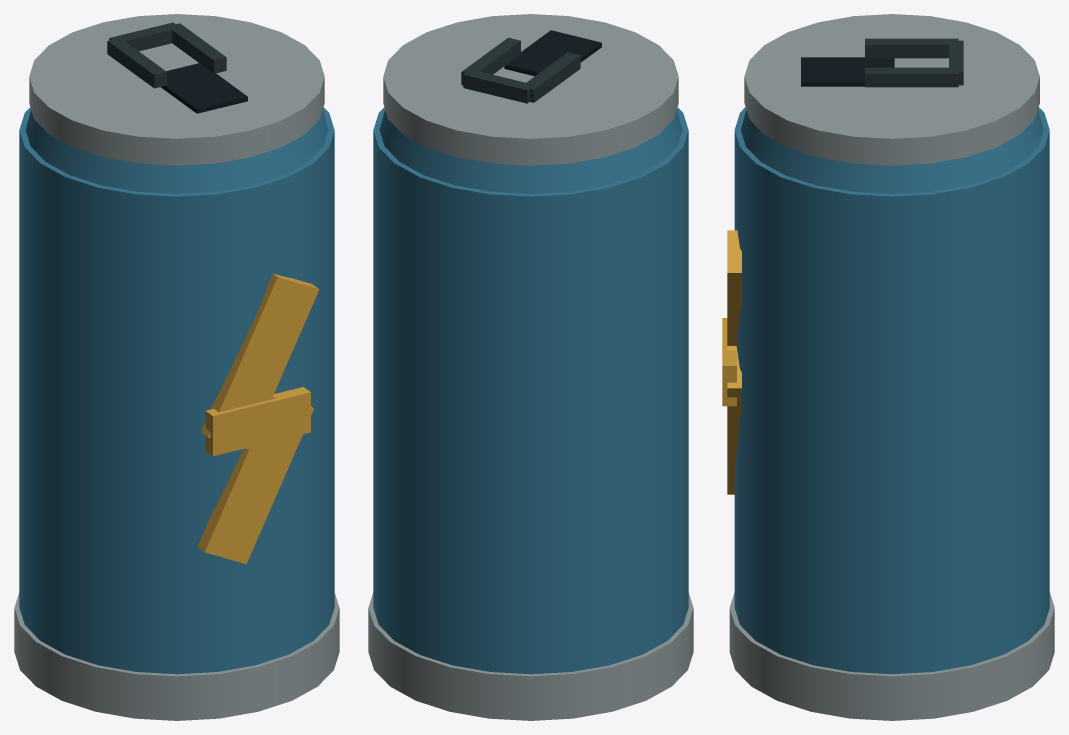
File: FSA_ITEM_Consumable_004_EnergyDrink.glb
The picture shows the model from 3 angles, left to right: view 1: azimuth 30°, elevation 25°; view 2: azimuth 150°, elevation 25°; view 3: azimuth 270°, elevation 25°; orthographic projection.
Parts seen in each view (by area): view 1: CanBody, CanTop, BottomRim, TopShoulder, BoltUpper, BoltLower, BoltCenter, DrinkOpening, TabL, TabR, TabTop; view 2: CanBody, CanTop, BottomRim, TopShoulder, DrinkOpening, TabTop, TabL, TabR; view 3: CanBody, CanTop, BottomRim, TopShoulder, DrinkOpening, TabR, TabL, BoltUpper, BoltLower, BoltCenter.
Part boxes in pixels (<box>): CanBody: <box>19,107,334,674</box>; CanTop: <box>29,14,324,165</box>; BottomRim: <box>14,593,339,720</box>; TopShoulder: <box>25,110,328,193</box>; BoltUpper: <box>201,273,319,449</box>; BoltLower: <box>197,395,313,564</box>; BoltCenter: <box>205,387,310,456</box>; DrinkOpening: <box>161,63,247,113</box>; TabL: <box>107,38,166,88</box>; TabR: <box>167,23,226,73</box>; TabTop: <box>109,22,179,51</box>; CanBody: <box>373,107,688,674</box>; CanTop: <box>383,14,678,165</box>; BottomRim: <box>368,593,693,720</box>; TopShoulder: <box>379,110,682,193</box>; DrinkOpening: <box>504,30,601,76</box>; TabTop: <box>463,69,533,103</box>; TabL: <box>521,52,580,102</box>; TabR: <box>461,37,520,85</box>; CanBody: <box>734,107,1049,674</box>; CanTop: <box>744,14,1039,165</box>; BottomRim: <box>729,592,1054,720</box>; TopShoulder: <box>741,110,1043,193</box>; DrinkOpening: <box>801,57,894,86</box>; TabR: <box>865,67,958,87</box>; TabL: <box>865,38,958,58</box>; BoltUpper: <box>727,230,741,345</box>; BoltLower: <box>727,346,741,494</box>; BoltCenter: <box>722,318,736,406</box>.
Bounding box in the file's own units: 0.066 × 0.1335 × 0.0675.
